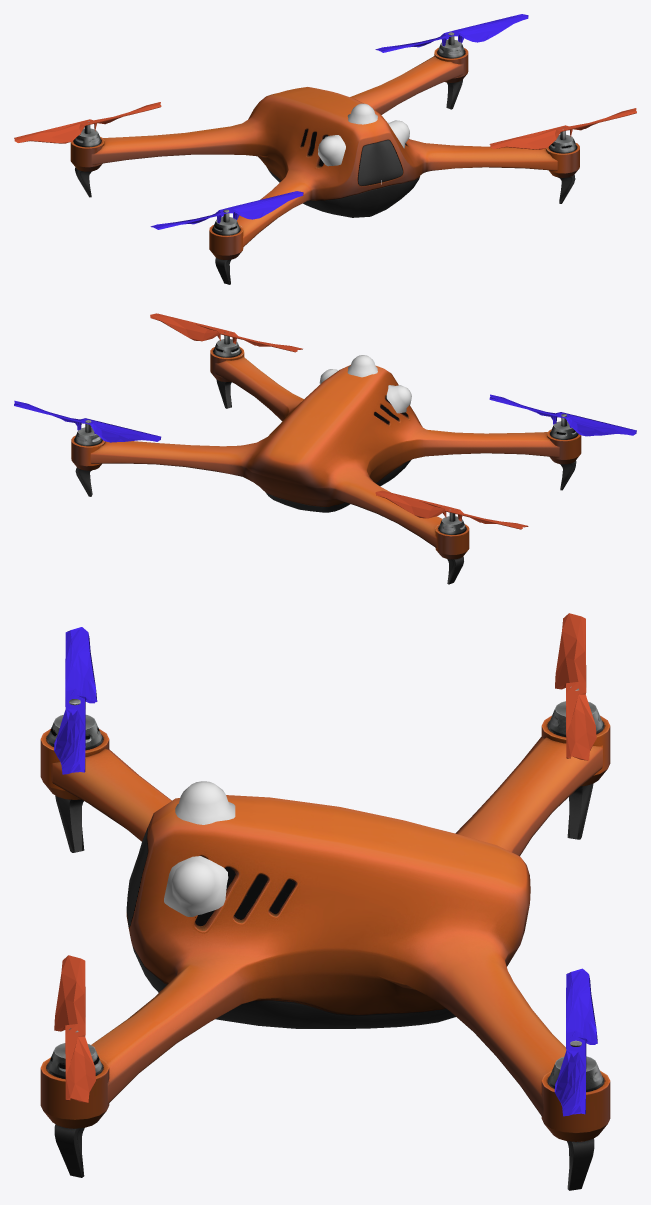
Rendered from Quadrotor.glb.
The picture shows the model from 3 angles, top to bottom: view 1: azimuth 30°, elevation 25°; view 2: azimuth 150°, elevation 25°; view 3: azimuth 270°, elevation 25°; orthographic projection. The views are drawn at different scales.
Parts seen in each view (by area): view 1: X3, node (×2), nodea, node002, LEDIndicator (×2); view 2: X3, node (×2), nodea, node002, LEDIndicator (×2); view 3: X3, node (×2), LEDIndicator (×2), node002, nodea.
Part boxes in pixels (x1,y1,x2,y2): X3: [70, 32, 579, 284]; node (×2): [150, 14, 528, 229]; nodea: [14, 102, 161, 143]; node002: [489, 108, 636, 149]; LEDIndicator (×2): [318, 103, 377, 166]; X3: [71, 332, 581, 584]; node (×2): [14, 394, 636, 442]; nodea: [375, 490, 528, 529]; node002: [150, 313, 302, 352]; LEDIndicator (×2): [347, 355, 411, 413]; X3: [40, 686, 610, 1190]; node (×2): [54, 627, 597, 1116]; LEDIndicator (×2): [164, 781, 235, 916]; node002: [54, 955, 95, 1102]; nodea: [555, 613, 596, 760].
Bounding box in the file's own units: 5.21 × 1.12 × 2.5.
4 materials, 1 textured.
